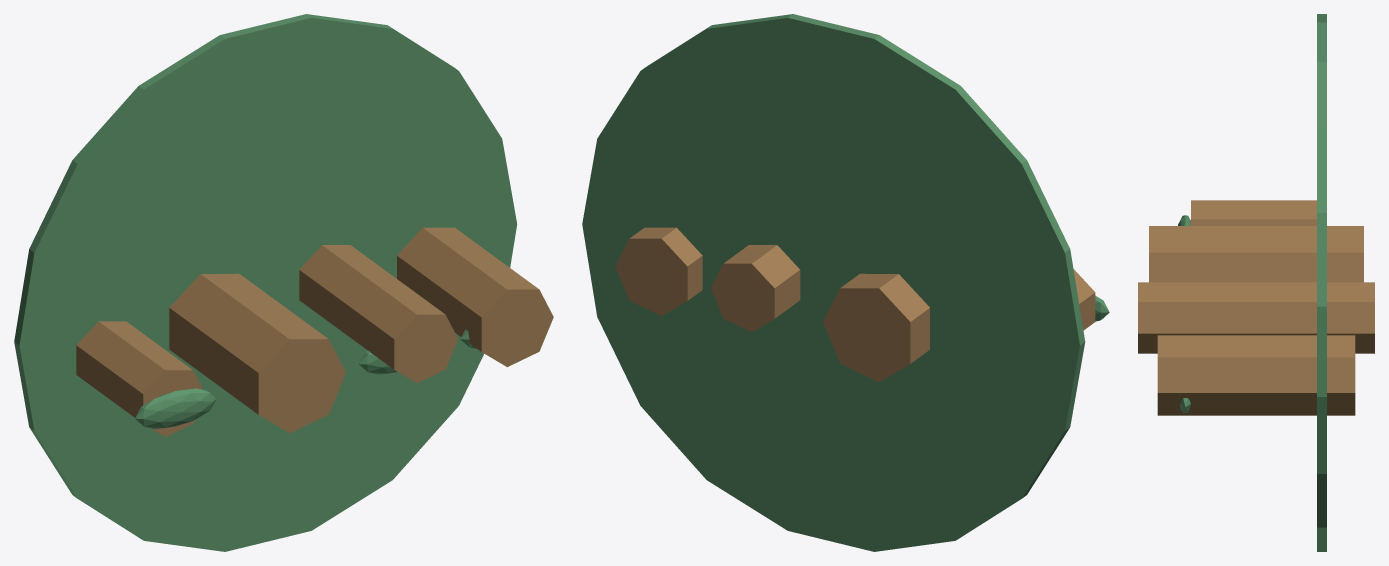
File: 03_ambient_object_cluster.glb
The picture shows the model from 3 angles, left to right: view 1: azimuth 30°, elevation 25°; view 2: azimuth 150°, elevation 25°; view 3: azimuth 270°, elevation 25°; orthographic projection. The views are drawn at different scales.
Visible parts, largest first — view 1: scatter_base, root_stump_1, root_stump_3, root_stump_2, root_stump_0, moss_0; view 2: scatter_base, root_stump_1, root_stump_3, root_stump_2, root_stump_0; view 3: root_stump_3, root_stump_2, root_stump_1, scatter_base, root_stump_0.
Boxes of the visible parts, left/top/right/bottom form: scatter_base: left=14, top=14, right=517, bottom=551; root_stump_1: left=169, top=273, right=345, bottom=433; root_stump_3: left=397, top=227, right=553, bottom=367; root_stump_2: left=299, top=245, right=457, bottom=383; root_stump_0: left=76, top=321, right=202, bottom=436; moss_0: left=135, top=388, right=216, bottom=428; scatter_base: left=582, top=14, right=1085, bottom=551; root_stump_1: left=823, top=273, right=929, bottom=382; root_stump_3: left=615, top=227, right=702, bottom=316; root_stump_2: left=711, top=245, right=800, bottom=332; root_stump_0: left=1073, top=269, right=1095, bottom=330; root_stump_3: left=1157, top=335, right=1355, bottom=415; root_stump_2: left=1138, top=282, right=1374, bottom=353; root_stump_1: left=1149, top=226, right=1363, bottom=282; scatter_base: left=1317, top=14, right=1326, bottom=551; root_stump_0: left=1191, top=200, right=1316, bottom=225.
Bounding box in the file's own units: 1.9 × 1.87 × 0.833.
